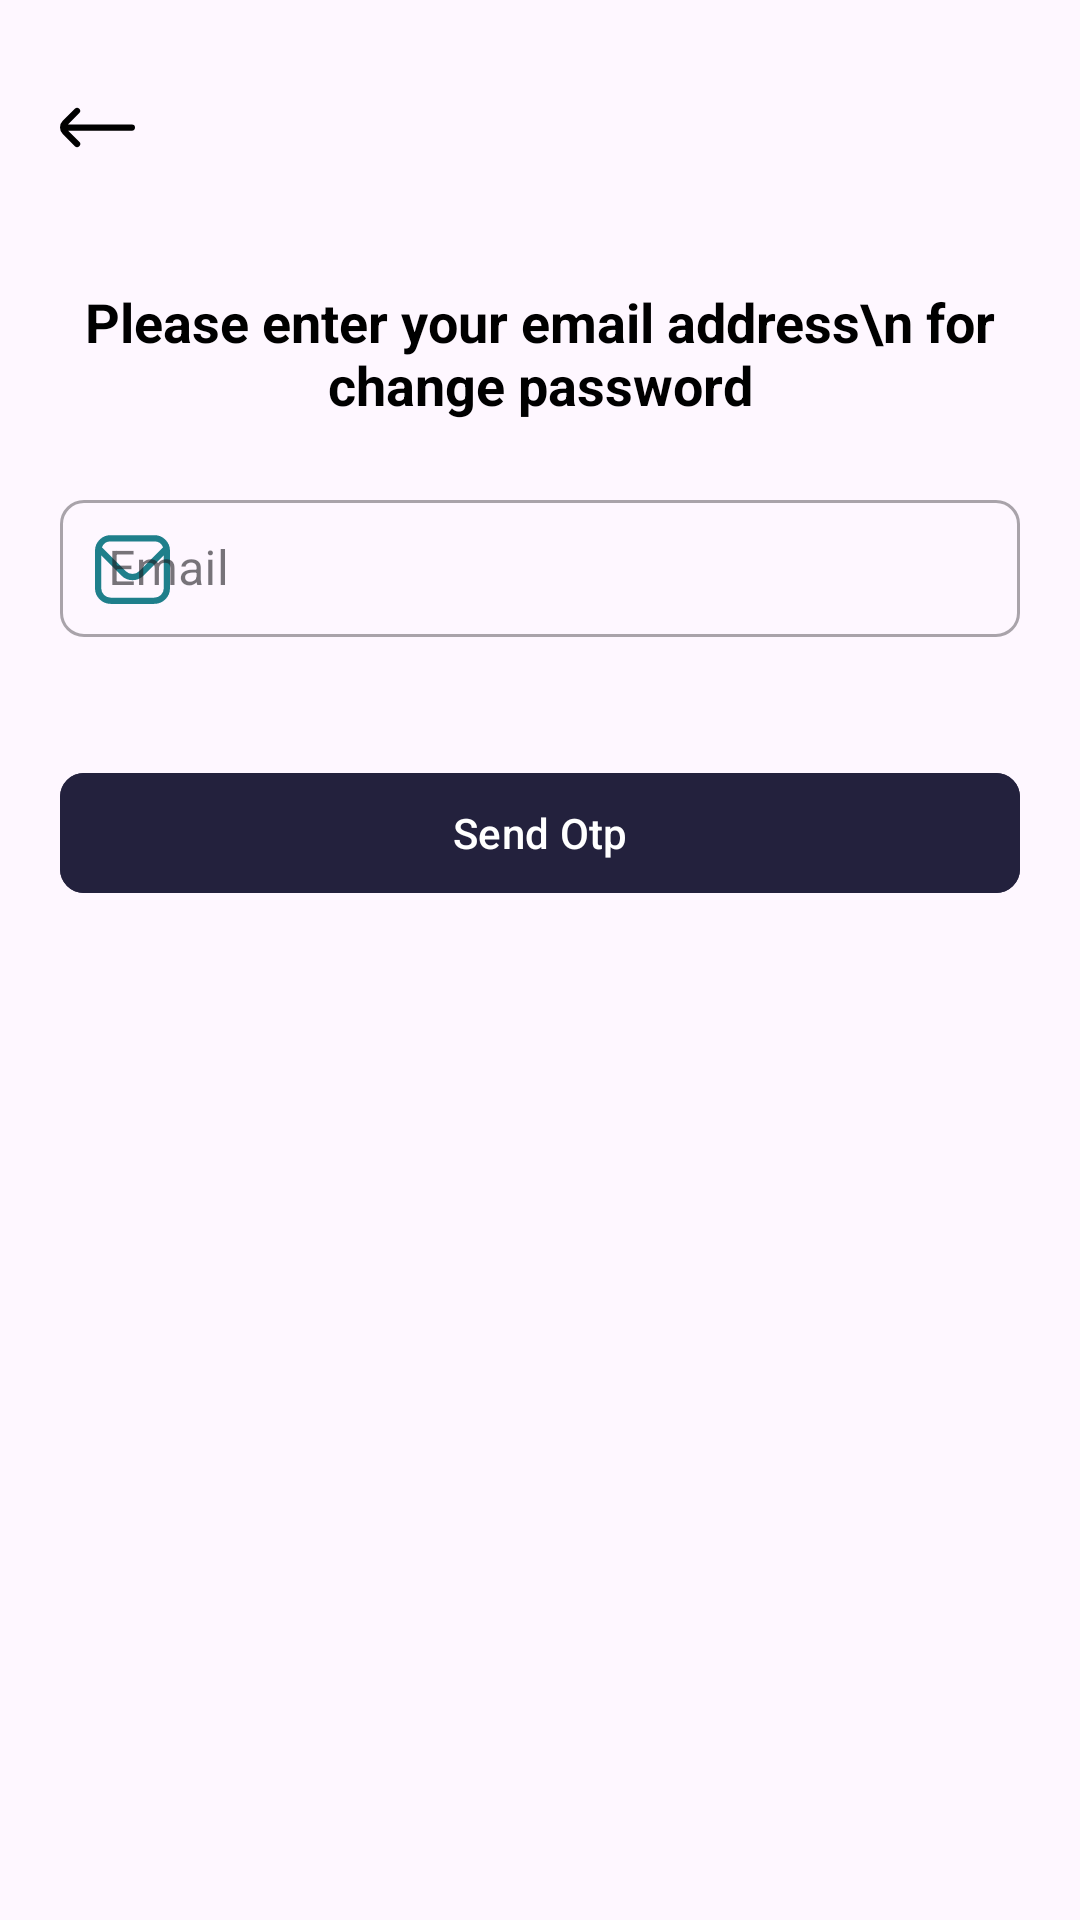

Locate icon controls on the screen. Image size 1080w x 1920h, boxes as bbox(x1, y1, x2, y2).
arrow left: bbox(60, 107, 135, 148)
